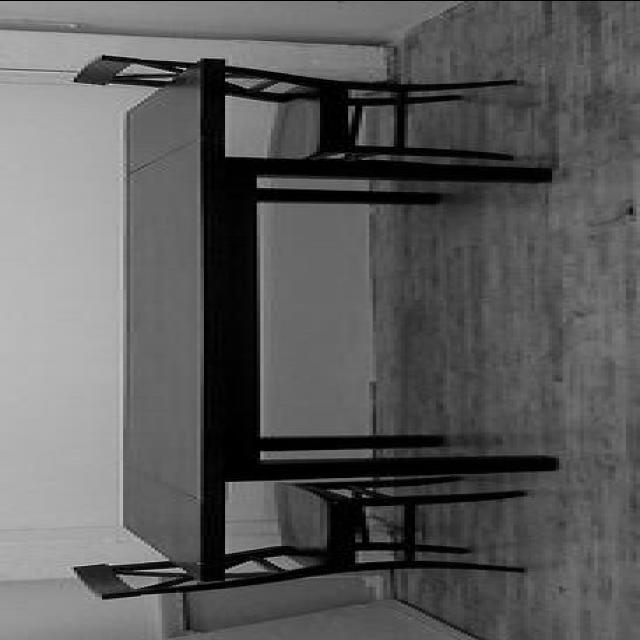chair: (72, 478, 536, 598), (70, 49, 520, 165)
table: (76, 58, 568, 580)
